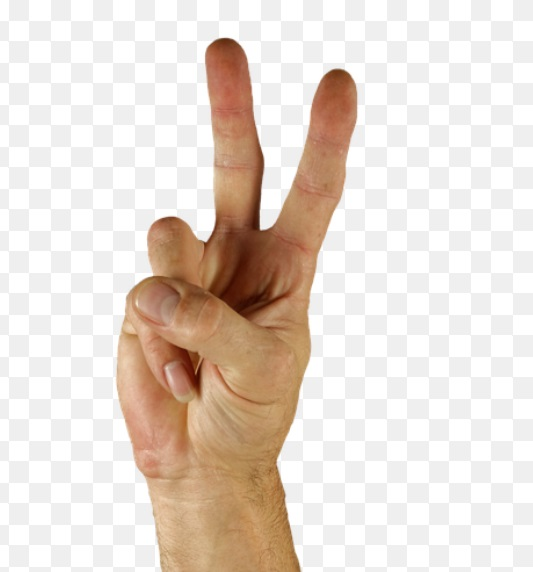peace: (114, 38, 356, 490)
